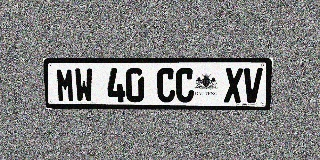0: (125, 68, 144, 102)
4: (107, 68, 125, 102)
C: (157, 68, 175, 102), (176, 68, 194, 102)
M: (56, 68, 75, 102)
V: (243, 68, 263, 103)
W: (74, 68, 93, 102)
X: (224, 68, 243, 103)
